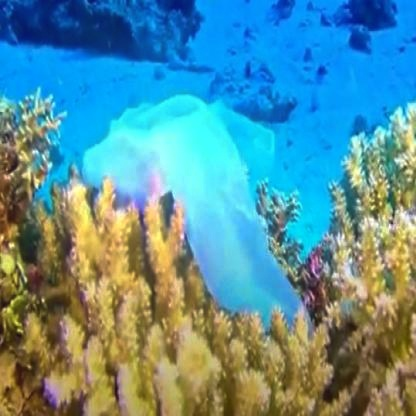plastic: (72, 62, 309, 345)
